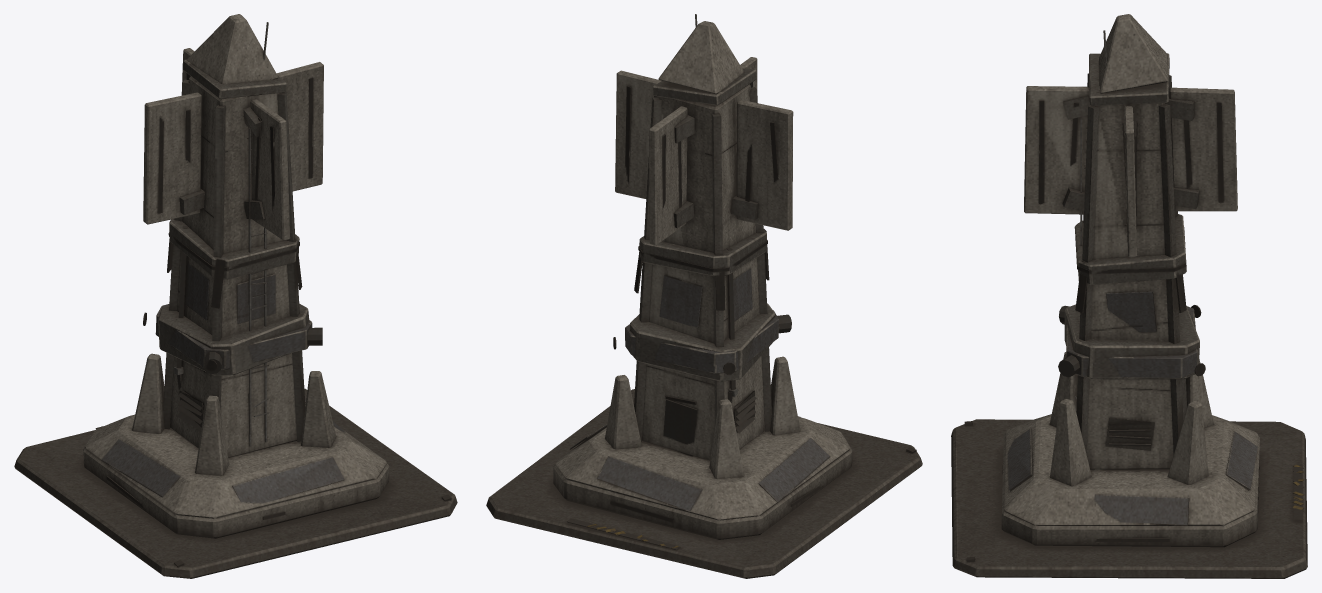
Rendered from ord_veilspire_wreck.fbx.
3 renders of one model, left to right at view 1: azimuth 30°, elevation 25°; view 2: azimuth 150°, elevation 25°; view 3: azimuth 270°, elevation 25°, orthographic. The views are drawn at different scales.
Parts seen in each view (by area): view 1: base_bar, band_bar; view 2: base_bar, band_bar; view 3: base_bar, band_bar.
Boxes of the visible parts, x1=… form: base_bar: x1=14, y1=14, x2=457, y2=578; band_bar: x1=143, y1=303, x2=322, y2=375; base_bar: x1=486, y1=14, x2=922, y2=578; band_bar: x1=613, y1=303, x2=791, y2=381; base_bar: x1=951, y1=14, x2=1307, y2=578; band_bar: x1=1058, y1=304, x2=1205, y2=379.
Bounding box in the file's own units: 1560 × 2568 × 1570.
Materials: 2 (2 with a texture image).
